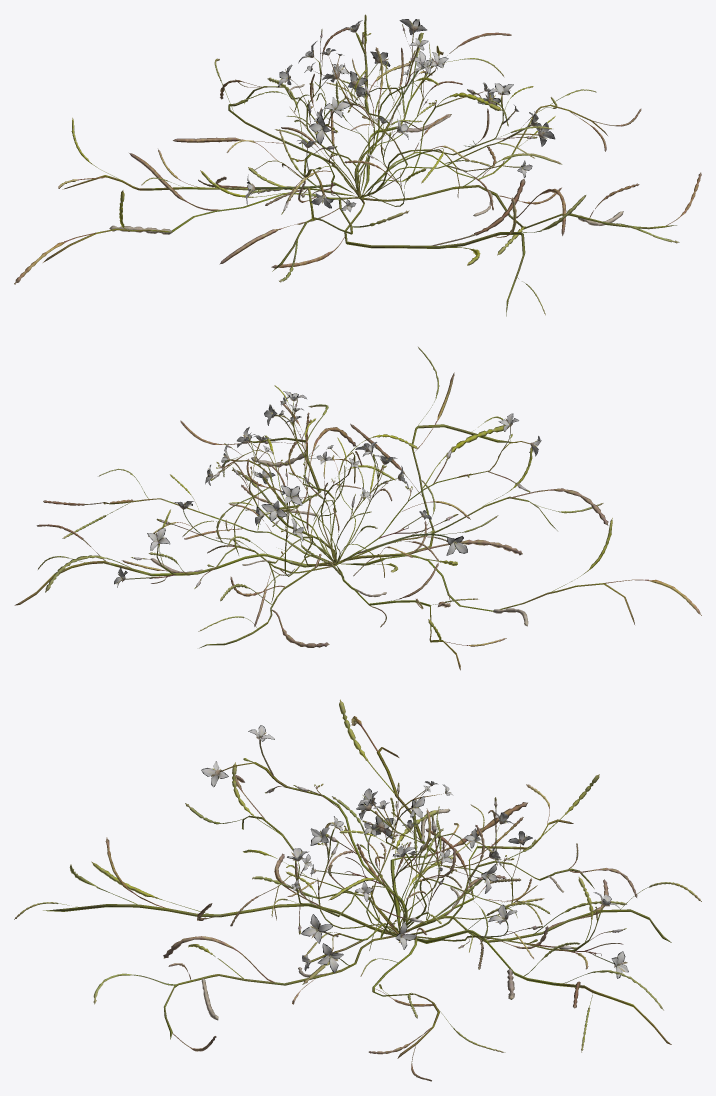
File: origami-lily.glb
3 views of the same model, one above another, from view 1: azimuth 30°, elevation 25°; view 2: azimuth 150°, elevation 25°; view 3: azimuth 270°, elevation 25° (orthographic). The views are drawn at different scales.
Visible parts, largest first — view 1: flower_heliophila_large; view 2: flower_heliophila_large; view 3: flower_heliophila_large.
Boxes of the visible parts, x1=… form: flower_heliophila_large: x1=14, y1=14, x2=701, y2=316; flower_heliophila_large: x1=14, y1=347, x2=701, y2=670; flower_heliophila_large: x1=14, y1=699, x2=701, y2=1081.
Size of the model in its own units: 1.66 by 0.3989 by 1.42.
1 material, 1 textured.
